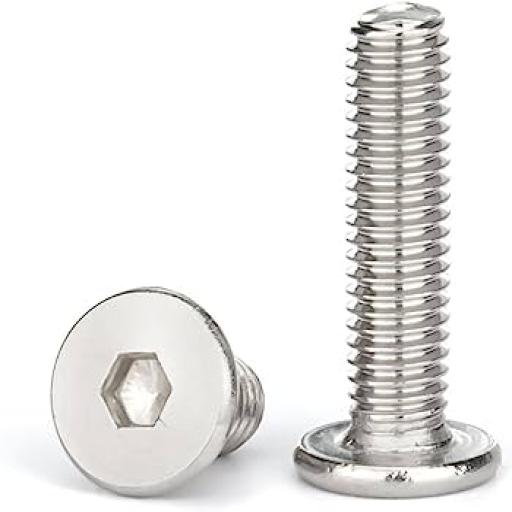Hex-Allen: (47, 285, 237, 501)
